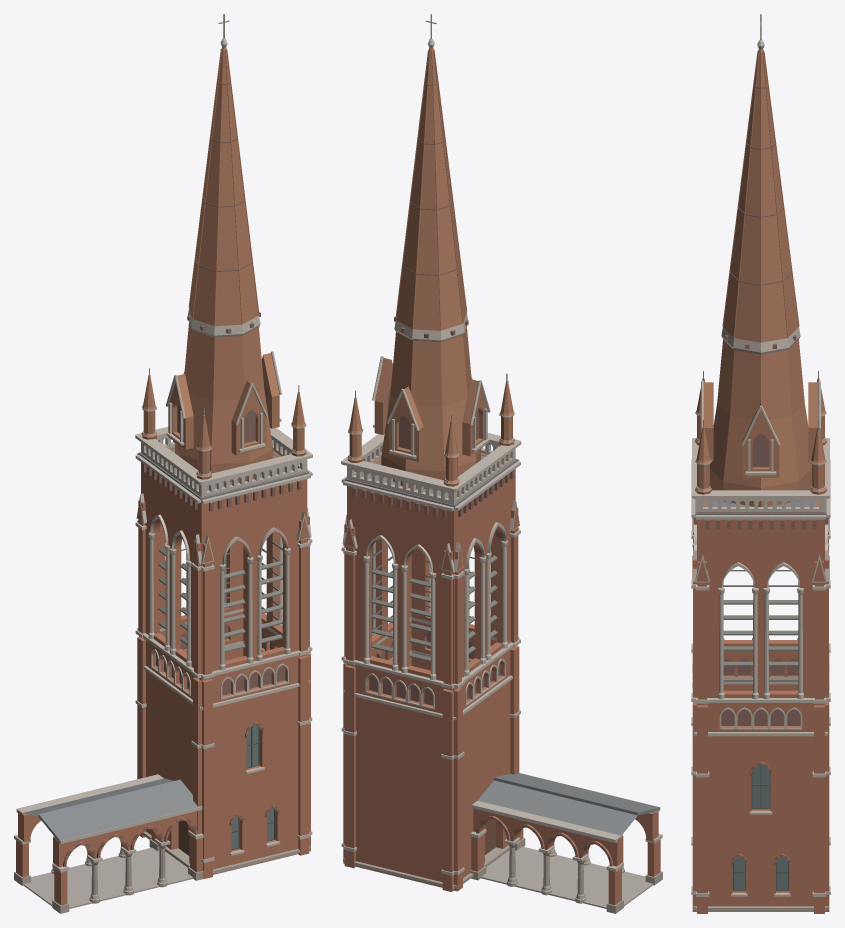
The model's file is huangpu-holy-trinity-bell-tower-lod.glb.
3 views of the same model, side by side, from view 1: azimuth 30°, elevation 25°; view 2: azimuth 150°, elevation 25°; view 3: azimuth 270°, elevation 25° (orthographic). The views are drawn at different scales.
Visible parts, largest first — view 1: 圣三一基督教堂（独立钟塔与连接短廊）; view 2: 圣三一基督教堂（独立钟塔与连接短廊）; view 3: 圣三一基督教堂（独立钟塔与连接短廊）.
Part boxes in pixels (x1,y1,x2,y2): 圣三一基督教堂（独立钟塔与连接短廊）: [14, 14, 312, 913]; 圣三一基督教堂（独立钟塔与连接短廊）: [341, 14, 662, 913]; 圣三一基督教堂（独立钟塔与连接短廊）: [691, 14, 830, 913].
Bounding box in the file's own units: 15.36 × 48 × 6.96.
